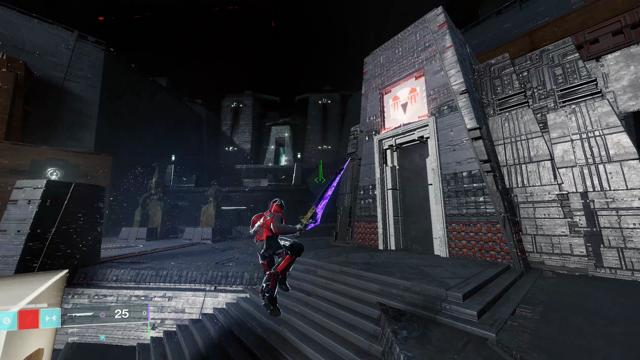give: (389, 87, 421, 120)
